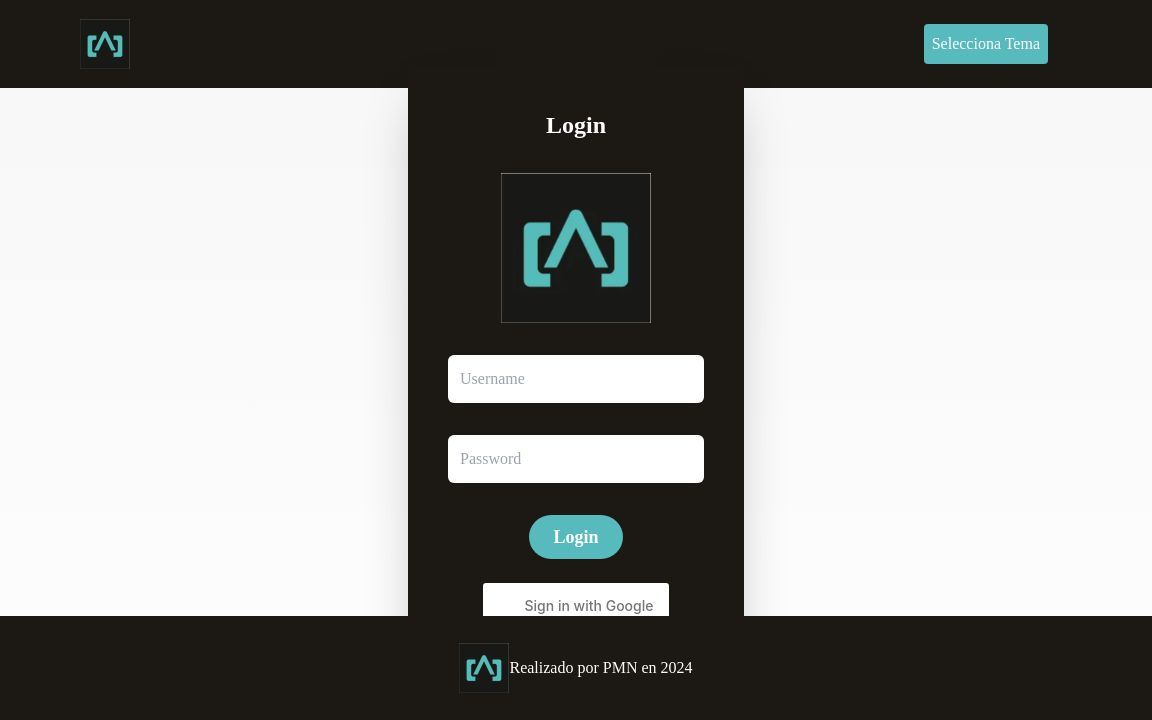
Test: login page ok › Login incorrect with error
Type "pmarti" into the field with placeholder "Username" at [576, 379], box top-left (448, 355), bottom-right (704, 403)
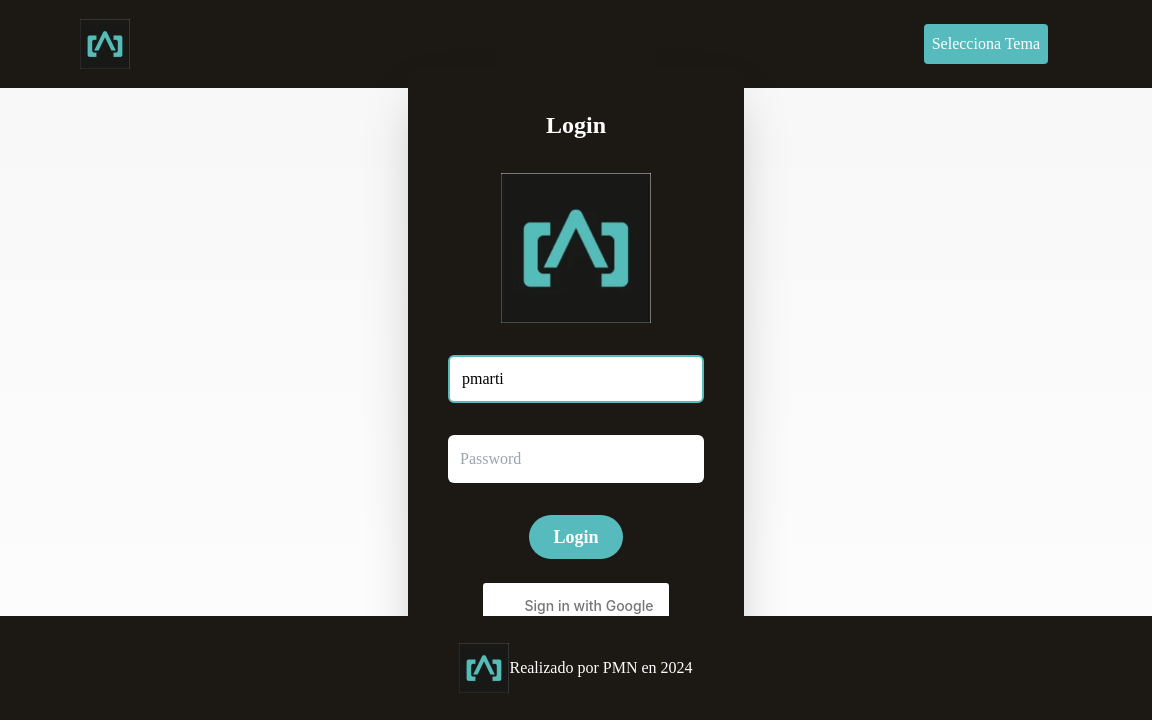
Type "1234" into the password field with placeholder "Password" at [576, 459], box top-left (448, 435), bottom-right (704, 483)
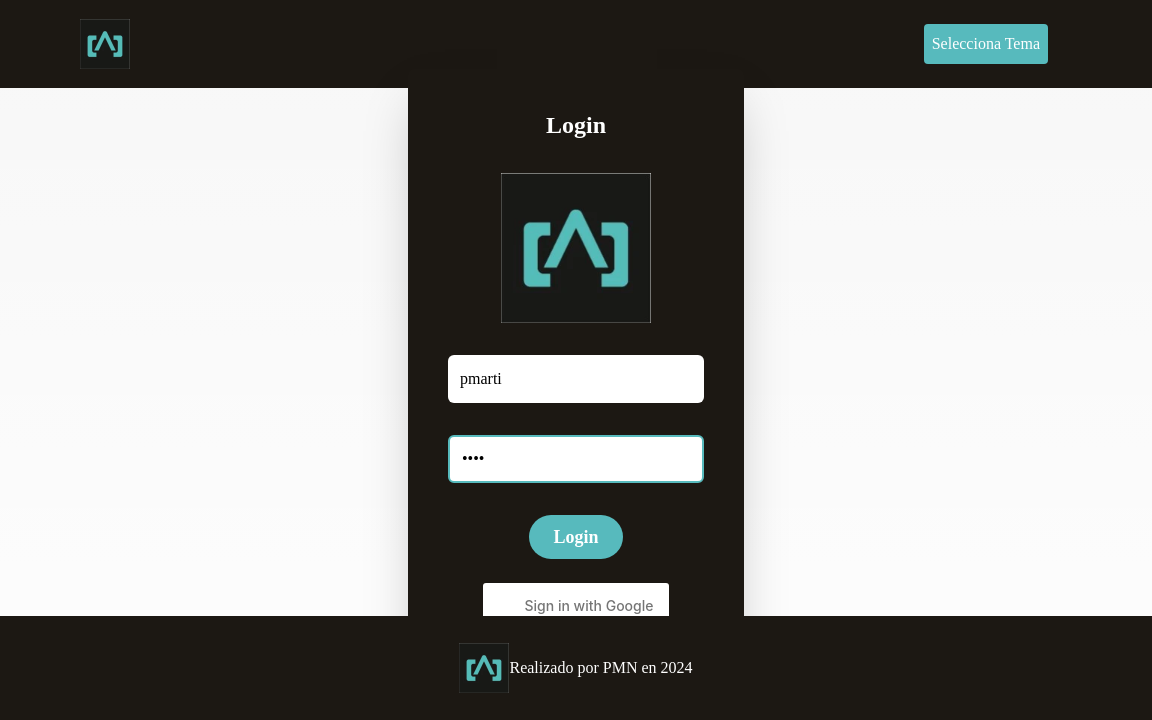
Expected: the button "Login" is disabled, top-left (530, 515), bottom-right (623, 559)
Replace the text in the field with "pmartin" at [576, 379], box top-left (448, 355), bottom-right (704, 403)
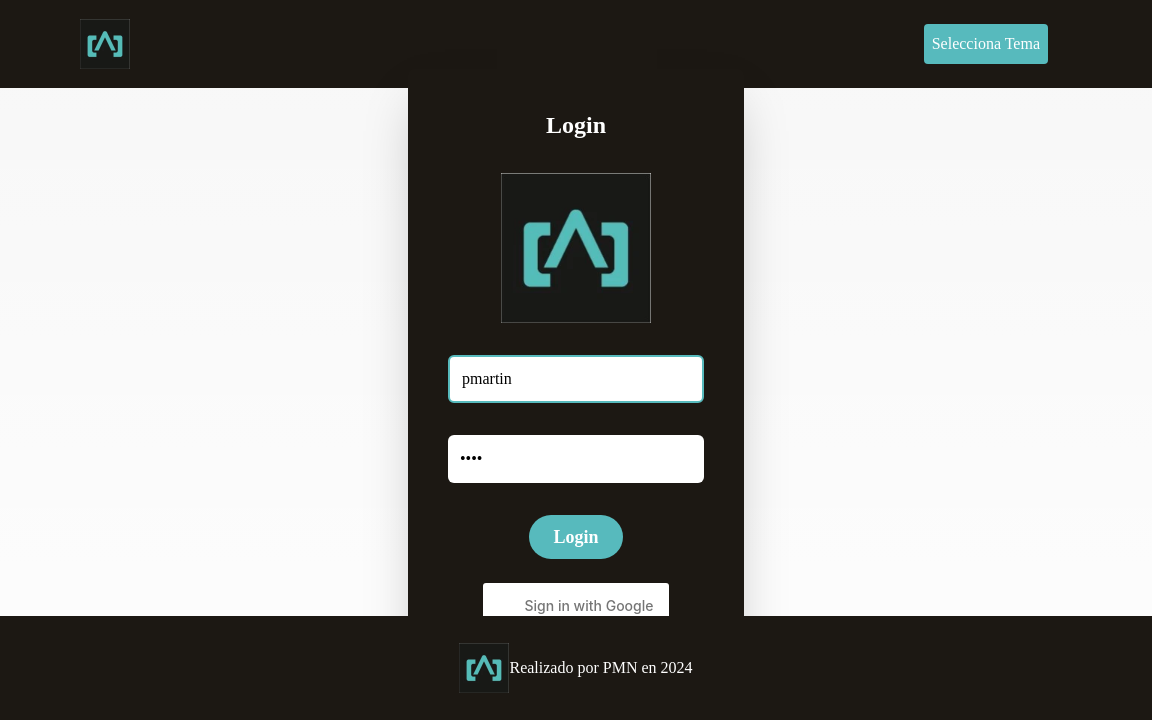
Type "password123" into the password field at [576, 459], box top-left (448, 435), bottom-right (704, 483)
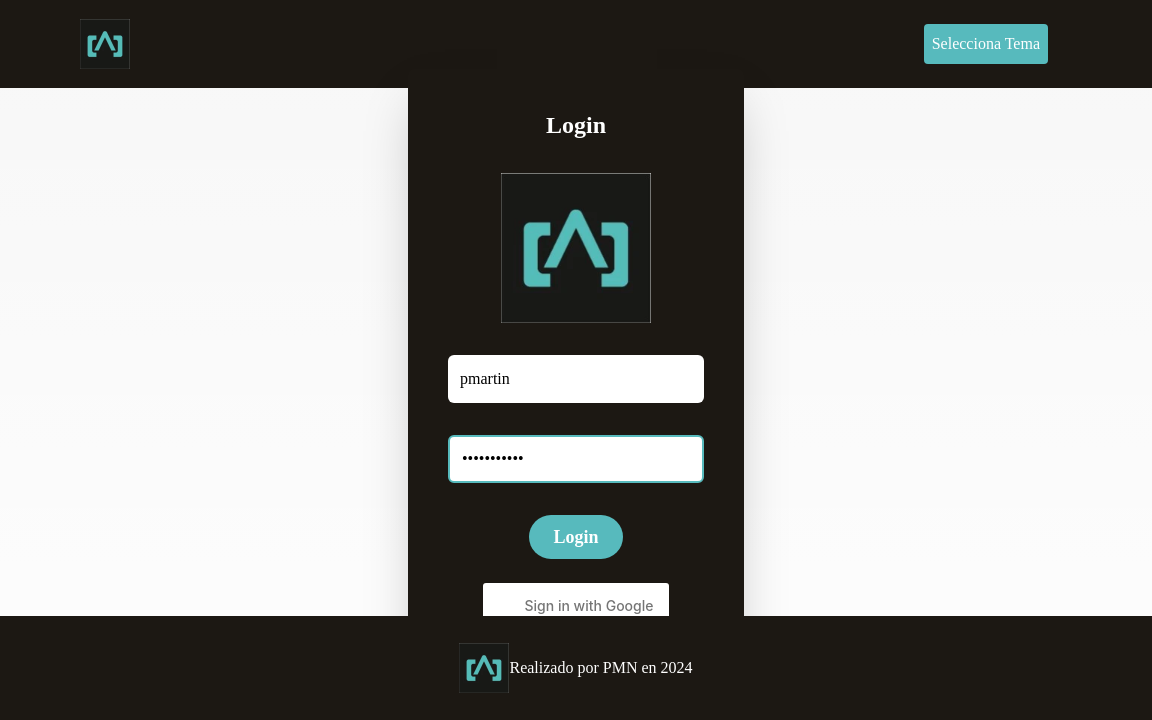
Click the button "Login" at [577, 537], box top-left (530, 515), bottom-right (623, 559)
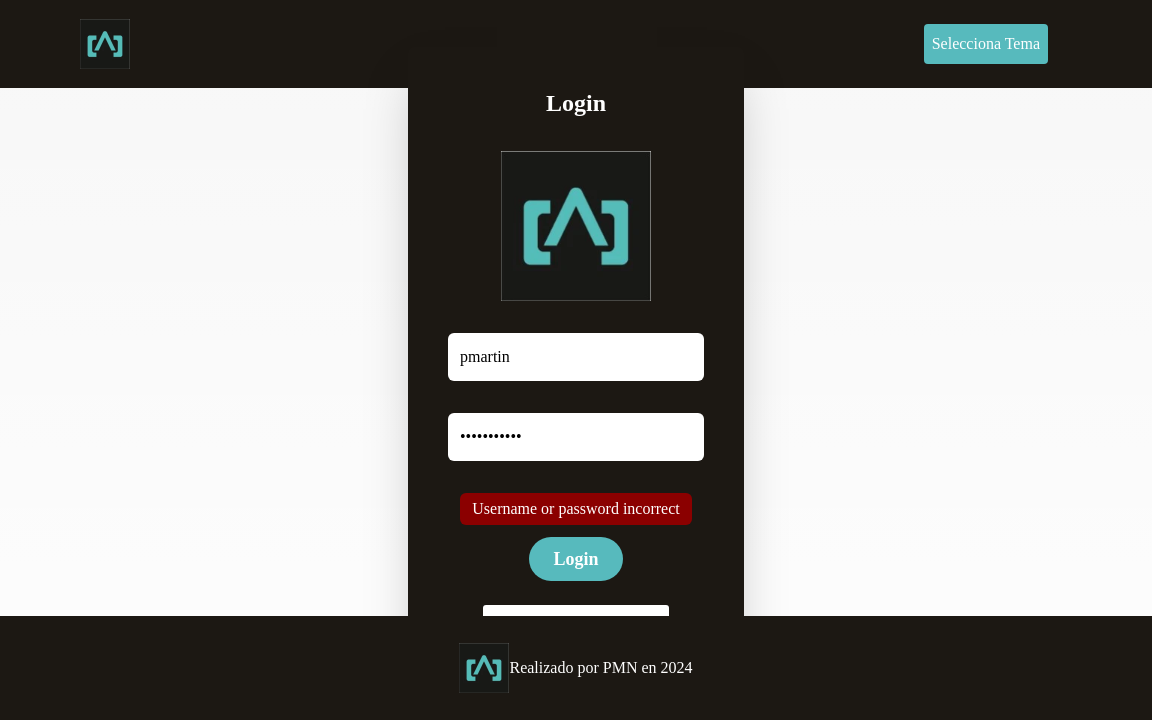
Now the text "Username or password incorrect" is shown, box top-left (460, 492), bottom-right (692, 524)
